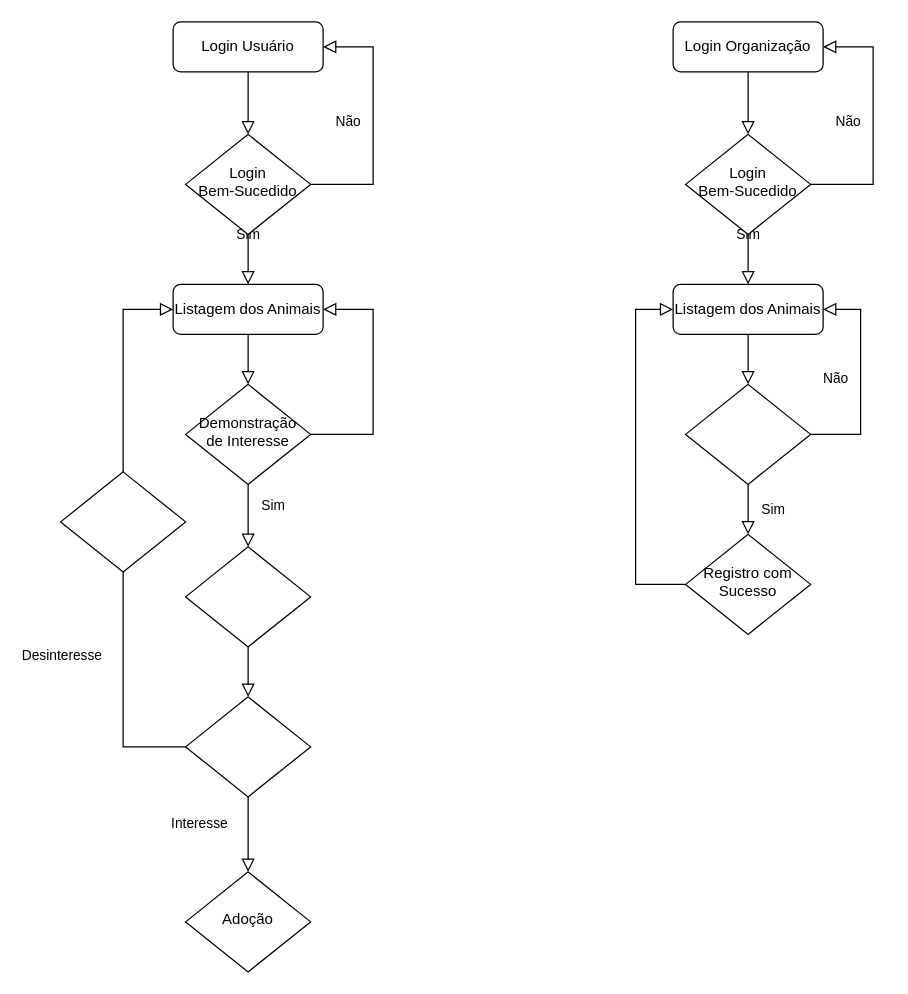
Some shapes in this 908 by 994 pixel diagram are drawn without their labels. The centre of each missing label's shape, as x and y in pixels:
Adoção Rejeitada: the point at 122,521
Conversa entre os interessados: the point at 247,746
Notificação à Organização: the point at 247,596
Registro de Animal: the point at 747,433
